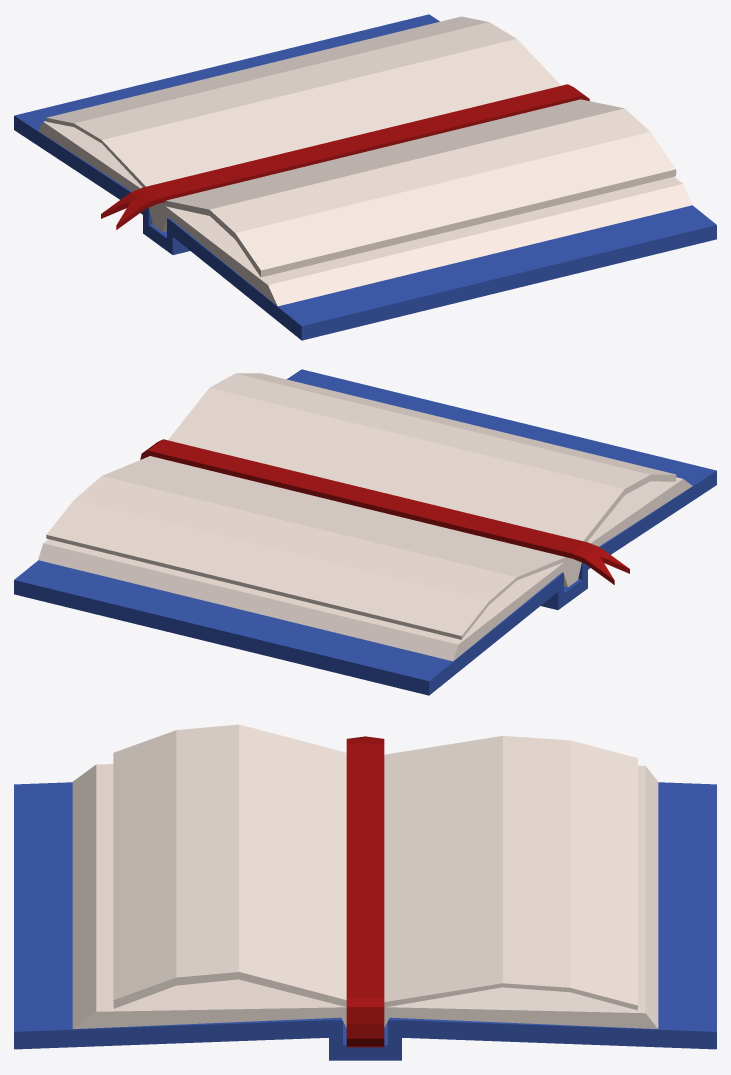
Rendered from openBook.fbx.
The picture shows the model from 3 angles, top to bottom: view 1: azimuth 30°, elevation 25°; view 2: azimuth 150°, elevation 25°; view 3: azimuth 270°, elevation 25°; orthographic projection. The views are drawn at different scales.
Visible parts, largest first — view 1: Cube.010, Cube.009, Cube.011; view 2: Cube.010, Cube.009, Cube.011; view 3: Cube.010, Cube.009, Cube.011.
Part boxes in pixels (left/top/right/bottom): Cube.010: left=38, top=16, right=692, bottom=306; Cube.009: left=14, top=14, right=716, bottom=340; Cube.011: left=101, top=84, right=589, bottom=229; Cube.010: left=38, top=373, right=692, bottom=661; Cube.009: left=14, top=369, right=716, bottom=695; Cube.011: left=140, top=439, right=629, bottom=584; Cube.010: left=72, top=724, right=658, bottom=1028; Cube.009: left=14, top=782, right=716, bottom=1060; Cube.011: left=346, top=736, right=384, bottom=1047.
Bounding box in the file's own units: 1032 × 150 × 1081.
